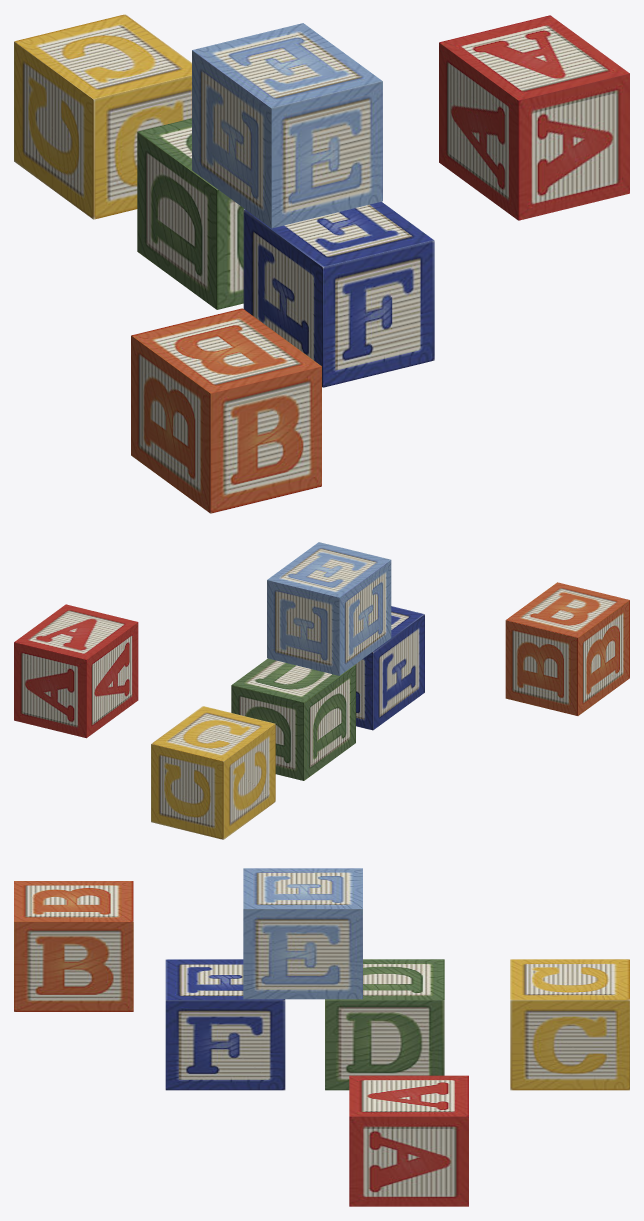
Rendered from toyBlocks.fbx.
The picture shows the model from 3 angles, top to bottom: view 1: azimuth 30°, elevation 25°; view 2: azimuth 150°, elevation 25°; view 3: azimuth 270°, elevation 25°; orthographic projection. The views are drawn at different scales.
Parts seen in each view (by area): view 1: BBlock, ABlock, EBlock, FBlock, CBlock, DBlock; view 2: CBlock, BBlock, ABlock, EBlock, DBlock, FBlock; view 3: CBlock, ABlock, EBlock, BBlock, FBlock, DBlock.
Boxes of the visible parts, left/top/right/bottom form: BBlock: left=131, top=308, right=321, bottom=513; ABlock: left=439, top=15, right=629, bottom=220; EBlock: left=192, top=23, right=382, bottom=228; FBlock: left=243, top=201, right=434, bottom=387; CBlock: left=14, top=14, right=191, bottom=219; DBlock: left=137, top=118, right=244, bottom=309; CBlock: left=151, top=706, right=275, bottom=839; BBlock: left=505, top=582, right=629, bottom=715; ABlock: left=14, top=604, right=138, bottom=738; EBlock: left=267, top=542, right=391, bottom=675; DBlock: left=231, top=658, right=355, bottom=780; FBlock: left=355, top=606, right=424, bottom=730; CBlock: left=510, top=959, right=629, bottom=1090; ABlock: left=349, top=1075, right=468, bottom=1206; EBlock: left=243, top=868, right=362, bottom=999; BBlock: left=14, top=881, right=133, bottom=1011; FBlock: left=165, top=959, right=285, bottom=1090; DBlock: left=325, top=959, right=444, bottom=1090.
Bounding box in the file's own units: 402 × 145 × 445.
